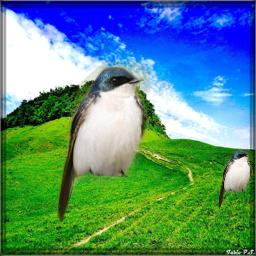Swallow: (57, 61, 150, 223), (218, 148, 253, 209)
